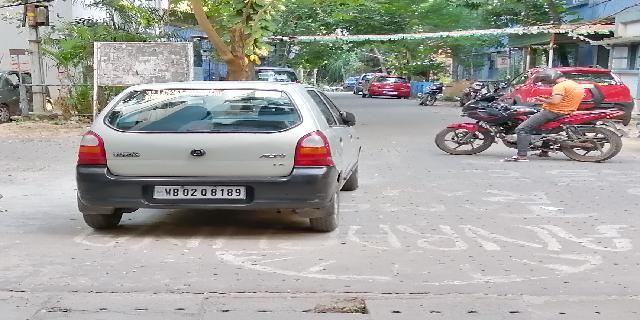Car: (69, 73, 367, 244), (357, 72, 415, 101)
Motorbike: (428, 75, 621, 170)
